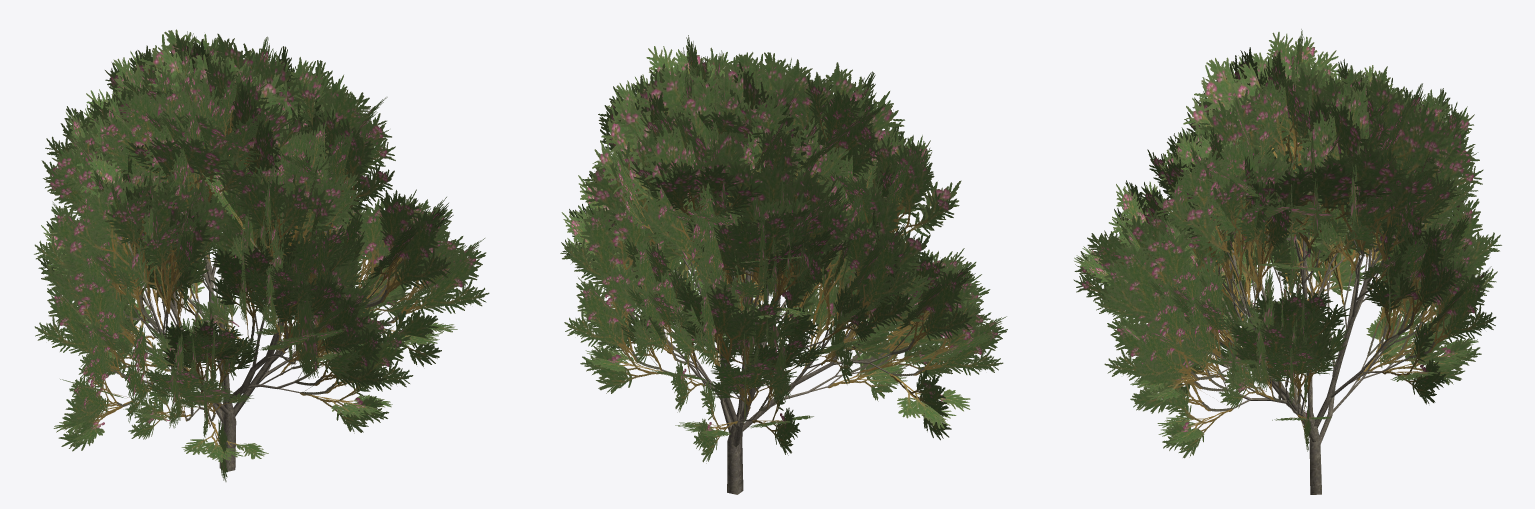
File: ChilopsisLinearis.glb
3 views of the same model, side by side, from view 1: azimuth 30°, elevation 25°; view 2: azimuth 150°, elevation 25°; view 3: azimuth 270°, elevation 25° (orthographic). The views are drawn at different scales.
Visible parts, largest first — view 1: Desert_Willow__Realistic_LOD3; view 2: Desert_Willow__Realistic_LOD3; view 3: Desert_Willow__Realistic_LOD3.
Part boxes in pixels (x1,y1,x2,y2): Desert_Willow__Realistic_LOD3: (34,29,489,481); Desert_Willow__Realistic_LOD3: (560,35,1007,494); Desert_Willow__Realistic_LOD3: (1073,29,1501,494).
Size of the model in its own units: 6.43 by 6.2 by 5.95.
1 material, 1 textured.
